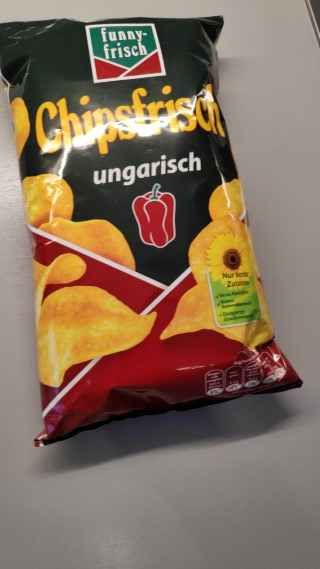chipsfrisch: (1, 13, 305, 449)
